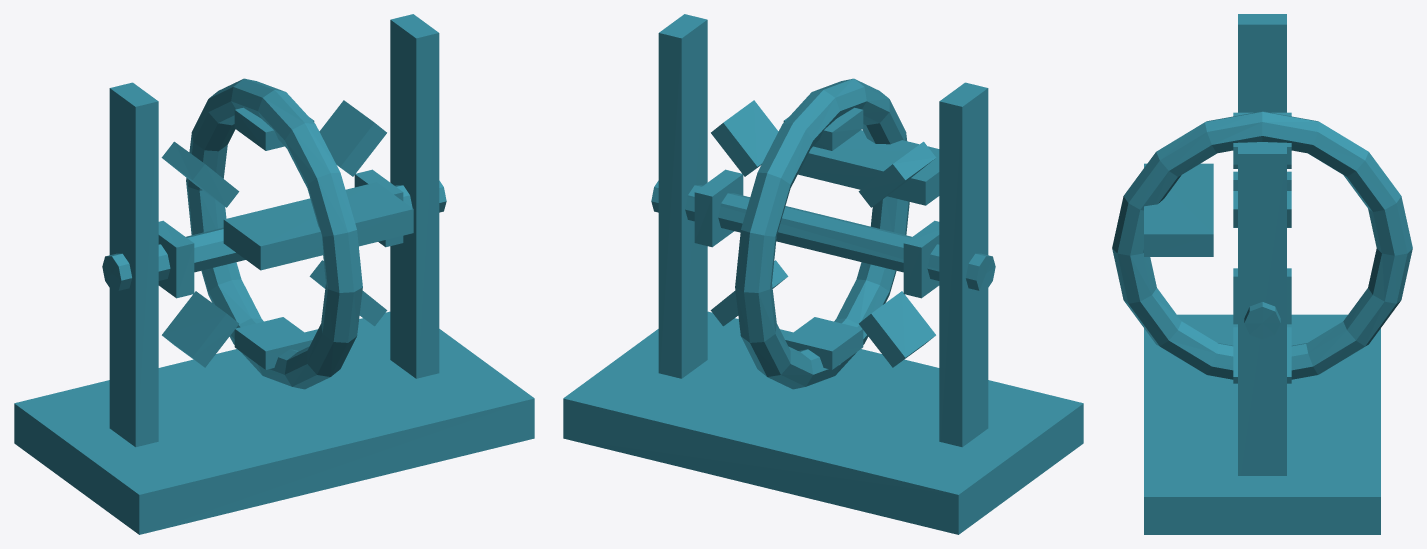
The model's file is Water-Wheel.glb.
3 renders of one model, left to right at view 1: azimuth 30°, elevation 25°; view 2: azimuth 150°, elevation 25°; view 3: azimuth 270°, elevation 25°, orthographic. The views are drawn at different scales.
Visible parts, largest first — view 1: water-wheel-static-wheel-cream, water-wheel-static-wheel-dark-iron, water-wheel-static-wheel-timber, water-wheel-static-wheel-muted-teal, water-wheel-static-wheel-galvanized; view 2: water-wheel-static-wheel-cream, water-wheel-static-wheel-dark-iron, water-wheel-static-wheel-timber, water-wheel-static-wheel-muted-teal, water-wheel-static-wheel-galvanized; view 3: water-wheel-static-wheel-cream, water-wheel-static-wheel-timber, water-wheel-static-wheel-dark-iron, water-wheel-static-wheel-galvanized, water-wheel-static-wheel-muted-teal.
Part boxes in pixels (x1=…): water-wheel-static-wheel-cream: x1=14, y1=311, x2=534, y2=534; water-wheel-static-wheel-dark-iron: x1=109, y1=14, x2=439, y2=447; water-wheel-static-wheel-timber: x1=186, y1=78, x2=362, y2=389; water-wheel-static-wheel-muted-teal: x1=158, y1=100, x2=403, y2=369; water-wheel-static-wheel-galvanized: x1=102, y1=180, x2=446, y2=290; water-wheel-static-wheel-cream: x1=563, y1=311, x2=1083, y2=534; water-wheel-static-wheel-dark-iron: x1=658, y1=14, x2=988, y2=447; water-wheel-static-wheel-timber: x1=735, y1=78, x2=909, y2=389; water-wheel-static-wheel-muted-teal: x1=694, y1=100, x2=939, y2=369; water-wheel-static-wheel-galvanized: x1=651, y1=130, x2=995, y2=290; water-wheel-static-wheel-cream: x1=1144, y1=314, x2=1380, y2=534; water-wheel-static-wheel-timber: x1=1112, y1=111, x2=1412, y2=379; water-wheel-static-wheel-dark-iron: x1=1238, y1=14, x2=1286, y2=475; water-wheel-static-wheel-galvanized: x1=1144, y1=163, x2=1280, y2=339; water-wheel-static-wheel-muted-teal: x1=1233, y1=112, x2=1291, y2=383.
Bounding box in the file's own units: 3.1 × 2.85 × 2.16.
